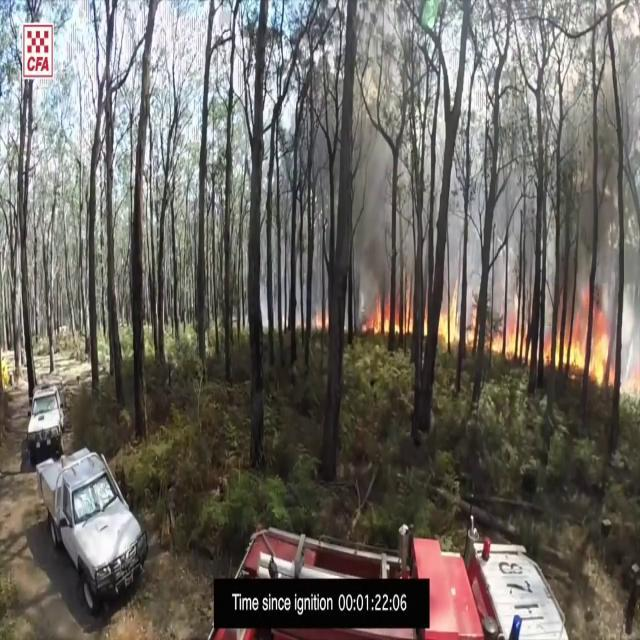Fire: (560, 296, 618, 393), (493, 304, 528, 363), (435, 306, 470, 351), (361, 304, 392, 336)
Smoke: (553, 7, 640, 294), (305, 84, 417, 298)
